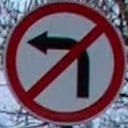NoVirarEsquerda: (5, 2, 125, 124)
